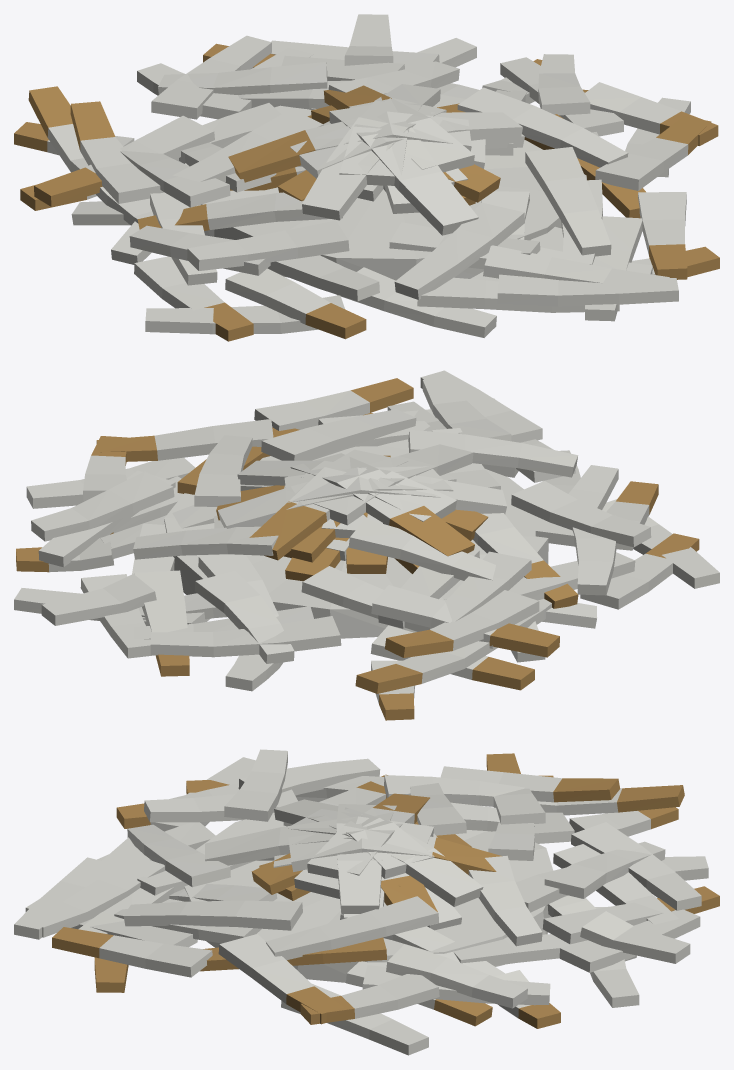
The model's file is coconut.glb.
3 renders of one model, top to bottom at view 1: azimuth 30°, elevation 25°; view 2: azimuth 150°, elevation 25°; view 3: azimuth 270°, elevation 25°, orthographic. The views are drawn at different scales.
Size of the model in its own units: 1.81 by 0.2302 by 1.87.
